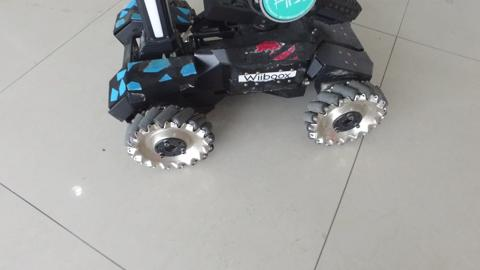chariot: (98, 10, 380, 174)
